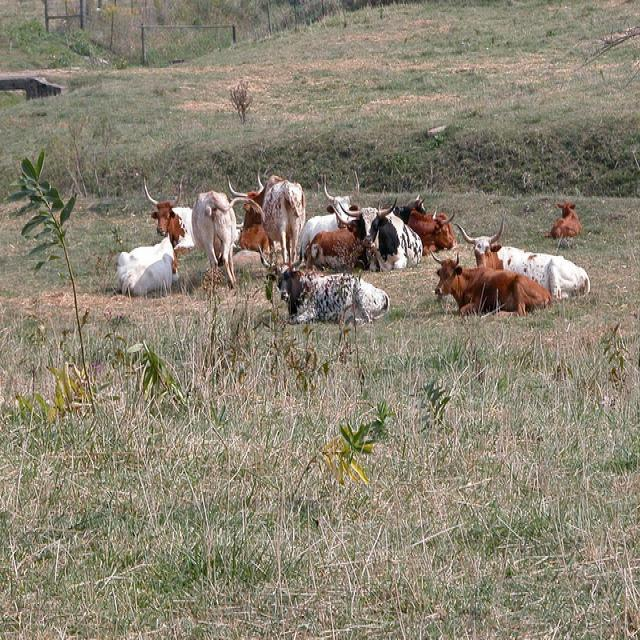cow: (451, 216, 591, 307), (226, 161, 308, 268), (260, 259, 391, 325), (429, 249, 549, 315), (286, 168, 357, 268), (336, 196, 422, 269), (258, 175, 306, 263), (196, 191, 240, 287), (143, 176, 196, 251), (114, 235, 179, 296), (303, 207, 366, 269), (406, 207, 458, 255), (543, 199, 581, 239), (394, 191, 425, 221)
